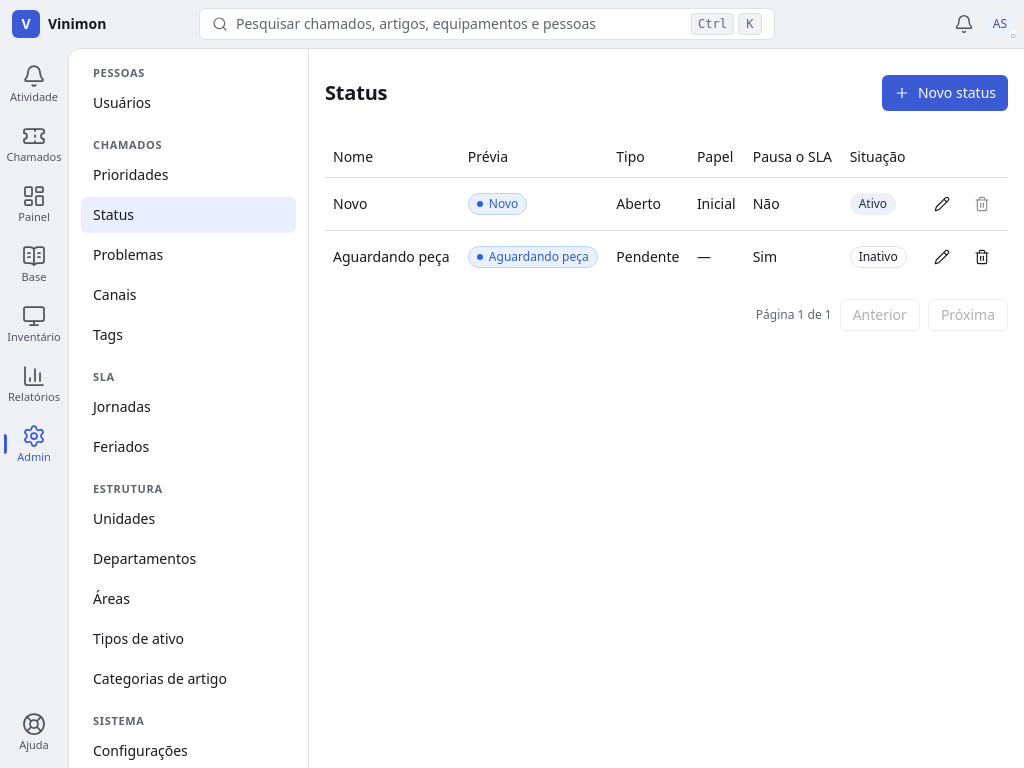
Scenario: /admin/status › excluir confirma e faz DELETE /status/2
Click the button named "Excluir Aguardando peça" at (982, 256), box [964,238,1000,274]
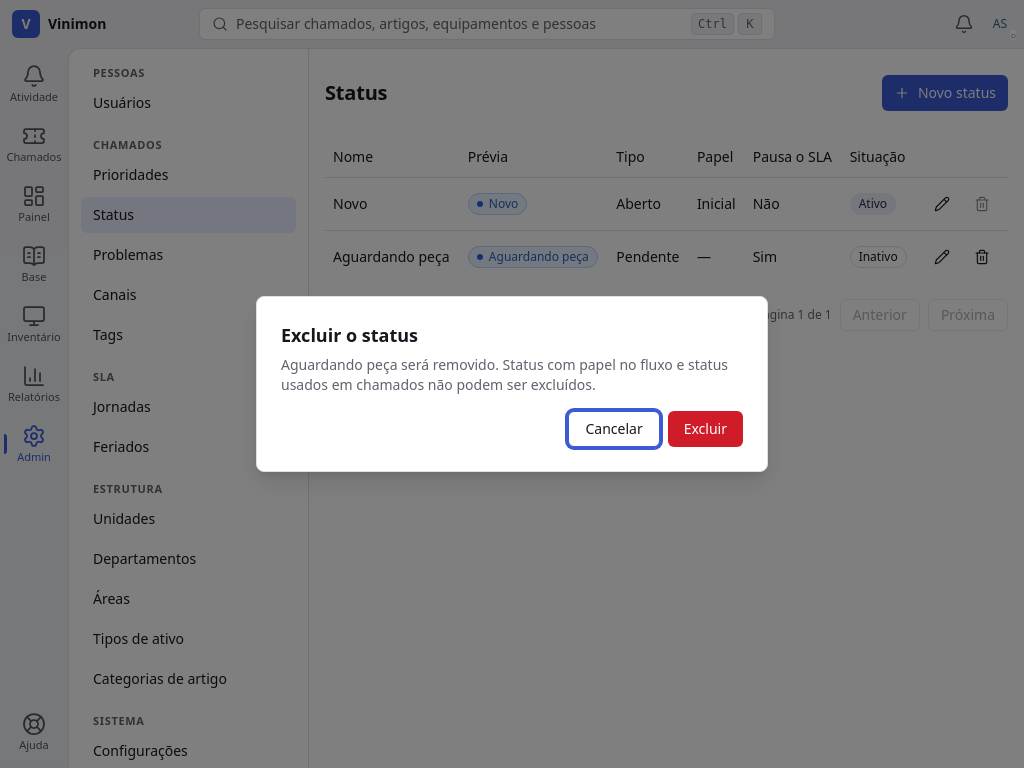
Click the button "Excluir" at (705, 429), box [668,411,743,447]
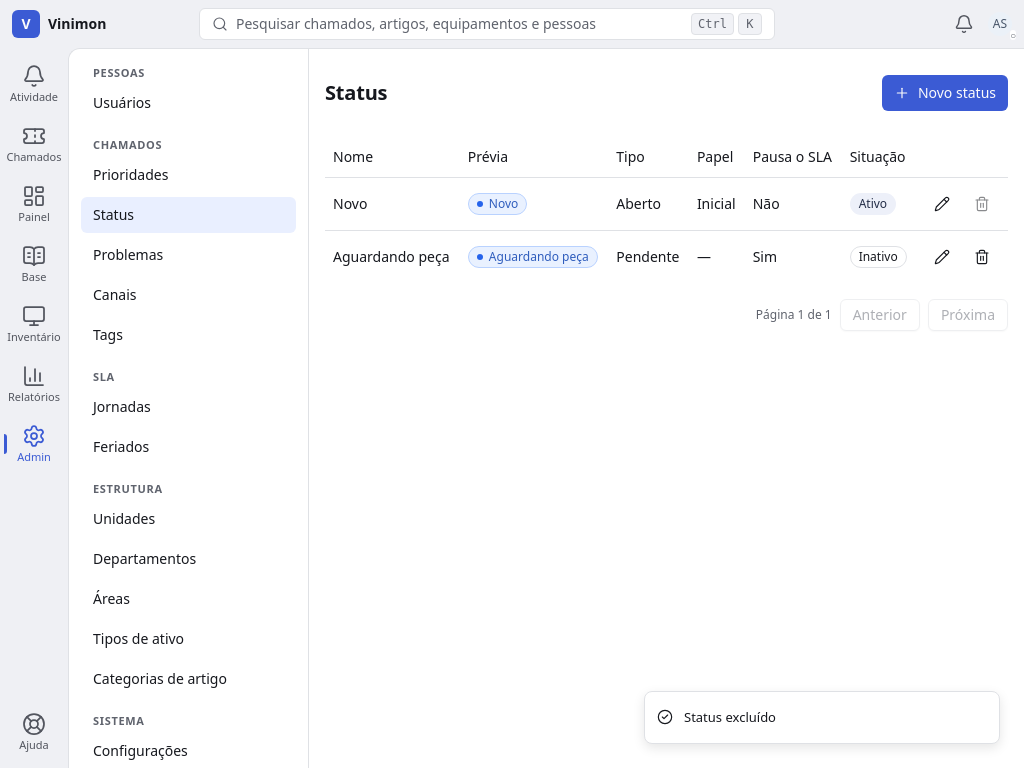
Check: the text "Status excluído" is shown, box [684,708,776,727]
